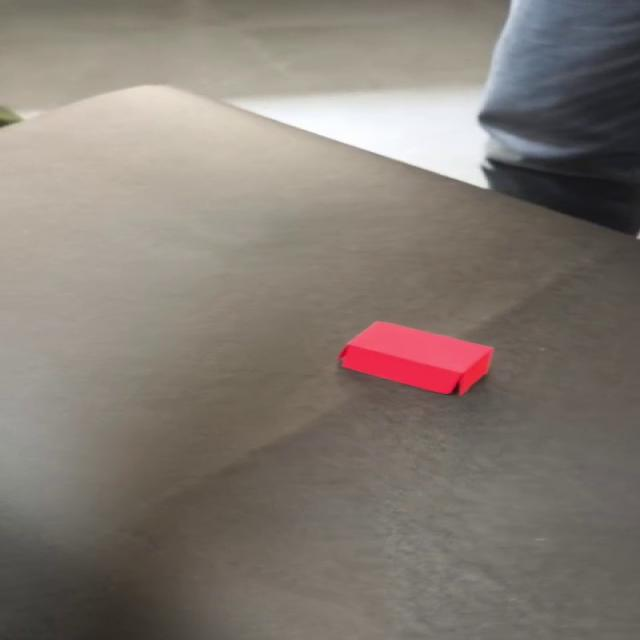red block: (336, 319, 495, 396)
